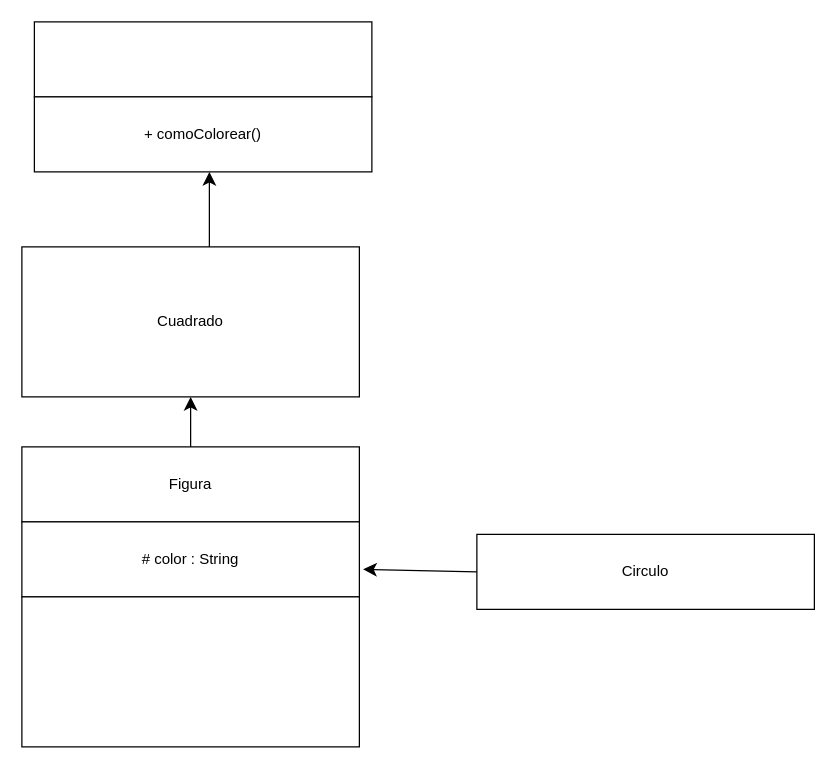
Image size: 836x769. Some labels were removed from this diagram. Each missing label, with the box of its shape:
+ setColor() + getColor() + toString() + area() + perimetro(): (21, 596, 359, 747)
Coloreado: (33, 21, 372, 97)
